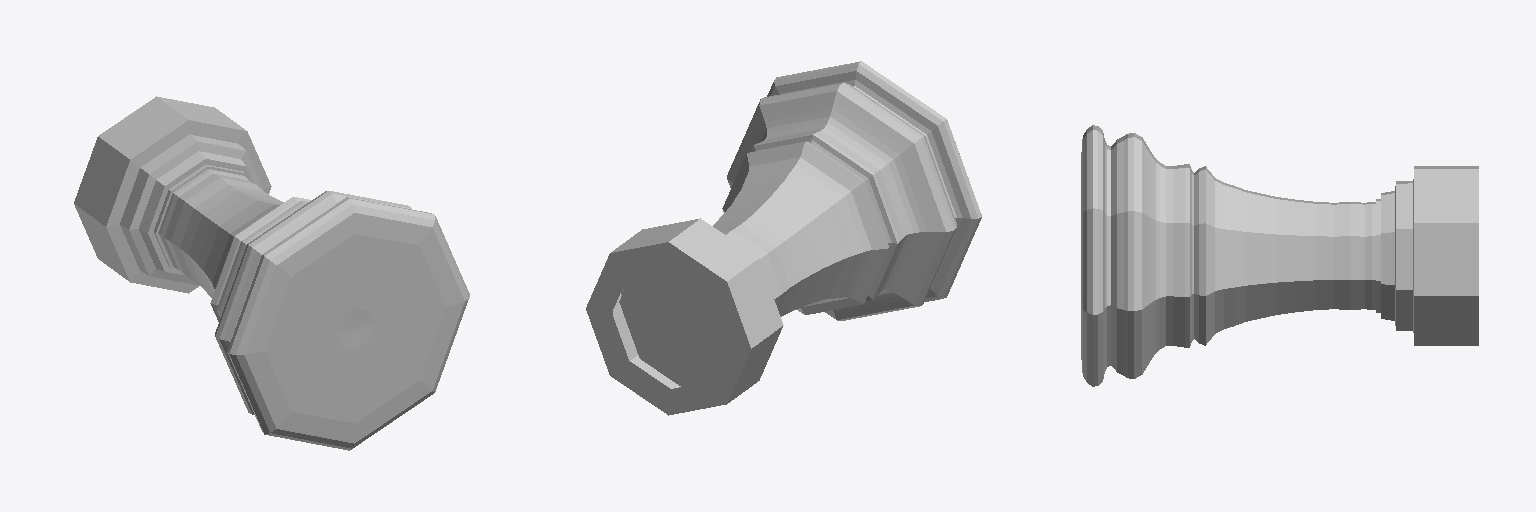
Rendered from rook.obj.
The picture shows the model from 3 angles: view 1: azimuth 30°, elevation 25°; view 2: azimuth 150°, elevation 25°; view 3: azimuth 270°, elevation 25°; orthographic projection.
Visible parts, largest first — view 1: pCylinder3; view 2: pCylinder3; view 3: pCylinder3.
Part boxes in pixels (left/top/right/bottom): pCylinder3: left=74, top=96, right=469, bottom=450; pCylinder3: left=586, top=61, right=981, bottom=415; pCylinder3: left=1081, top=125, right=1478, bottom=386.
Size of the model in its own units: 1.07 by 1.07 by 1.52.